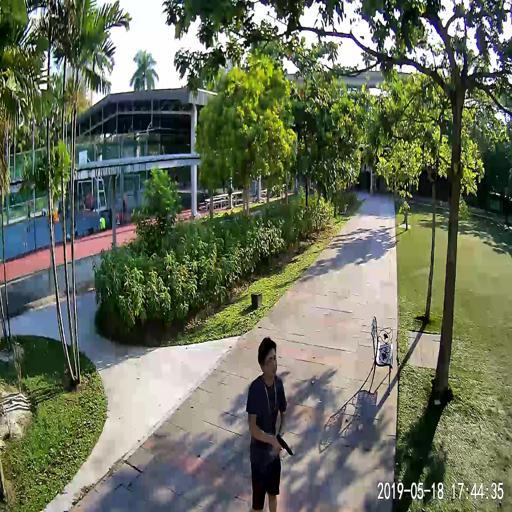Handgun: (273, 429, 292, 458)
